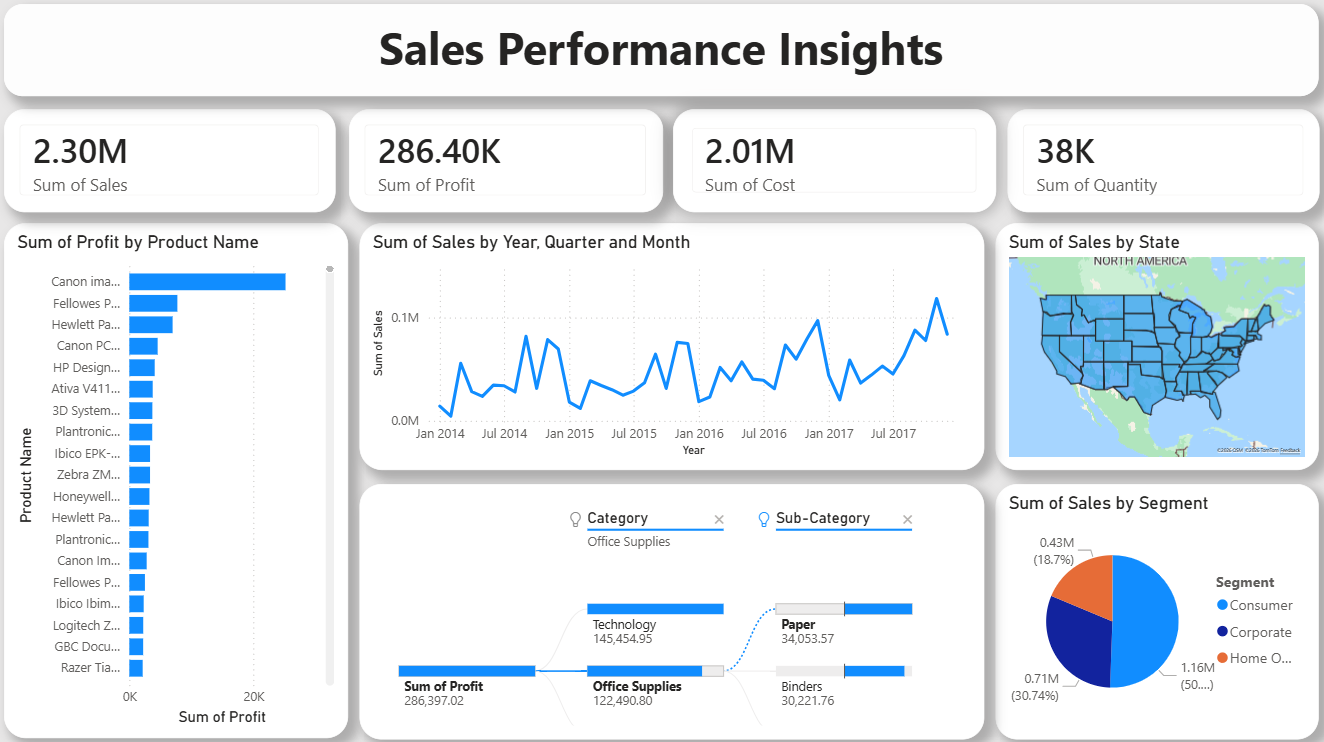

The page's visual inventory and layout, read from the dashboard file:
{"tool":"powerbi","page":{"name":"Page 2","canvas":[1280,720],"ordinal":0},"visuals":[{"type":"azureMap","fields":{"Y":["Sum(Sample_ Superstore.Sales)"],"Category":["Sample_ Superstore.State"]},"box":[958.5,221.1,308.9,236.2],"z":0},{"type":"clusteredBarChart","fields":{"Category":["Sample_ Superstore.Product Name"],"Y":["Sum(Sample_ Superstore.Profit)"]},"box":[12.1,221.1,328.6,492.1],"z":1000},{"type":"pieChart","fields":{"Category":["Sample_ Superstore.Segment"],"Y":["Sum(Sample_ Superstore.Sales)"]},"box":[958.5,469.4,308.9,243.8],"z":2000},{"type":"lineChart","fields":{"Category":["Sample_ Superstore.Order Date.Variation.Date Hierarchy.Year","Sample_ Superstore.Order Date.Variation.Date Hierarchy.Quarter","Sample_ Superstore.Order Date.Variation.Date Hierarchy.Month","Sample_ Superstore.Order Date.Variation.Date Hierarchy.Day"],"Y":["Sum(Sample_ Superstore.Sales)"]},"box":[351.3,221.1,596.6,236.2],"z":3000},{"type":"decompositionTreeVisual","fields":{"ExplainBy":["Sample_ Superstore.Category","Sample_ Superstore.Sub-Category"],"Analyze":["Sum(Sample_ Superstore.Profit)"]},"box":[351.3,469.4,596.6,243.8],"z":5000},{"type":"cardVisual","fields":{"Data":["Sum(Sample_ Superstore.Sales)"]},"box":[12.1,112.1,316.5,98.4],"z":6000},{"type":"cardVisual","fields":{"Data":["Sum(Sample_ Superstore.Profit)"]},"box":[340.7,112.1,299.8,98.4],"z":7000},{"type":"cardVisual","fields":{"Data":["Sum(Sample_ Superstore.Quantity)"]},"box":[969.1,112.1,298.3,98.4],"z":8000},{"type":"cardVisual","fields":{"Data":["Sum(Sample_ Superstore.Cost )"]},"box":[649.6,112.1,308.9,98.4],"z":9000},{"type":"textbox","box":[12.1,12.1,1255.3,87.8],"z":9001}]}

Visuals, with their boxes in screenshot pixels (x1, y1, x2, y2), scaled from the page's 1280x720 canvas onto the 1324x742 screenshot:
azureMap - Sum(Sample_ Superstore.Sales) x Sample_ Superstore.State: box(991, 228, 1311, 471)
clusteredBarChart - Sample_ Superstore.Product Name x Sum(Sample_ Superstore.Profit): box(13, 228, 352, 735)
pieChart - Sample_ Superstore.Segment x Sum(Sample_ Superstore.Sales): box(991, 484, 1311, 735)
lineChart - Sample_ Superstore.Order Date.Variation.Date Hierarchy.Year x Sample_ Superstore.Order Date.Variation.Date Hierarchy.Quarter: box(363, 228, 980, 471)
decompositionTreeVisual - Sample_ Superstore.Category x Sample_ Superstore.Sub-Category: box(363, 484, 980, 735)
cardVisual - Sum(Sample_ Superstore.Sales): box(13, 116, 340, 217)
cardVisual - Sum(Sample_ Superstore.Profit): box(352, 116, 663, 217)
cardVisual - Sum(Sample_ Superstore.Quantity): box(1002, 116, 1311, 217)
cardVisual - Sum(Sample_ Superstore.Cost ): box(672, 116, 991, 217)
textbox: box(13, 12, 1311, 103)
